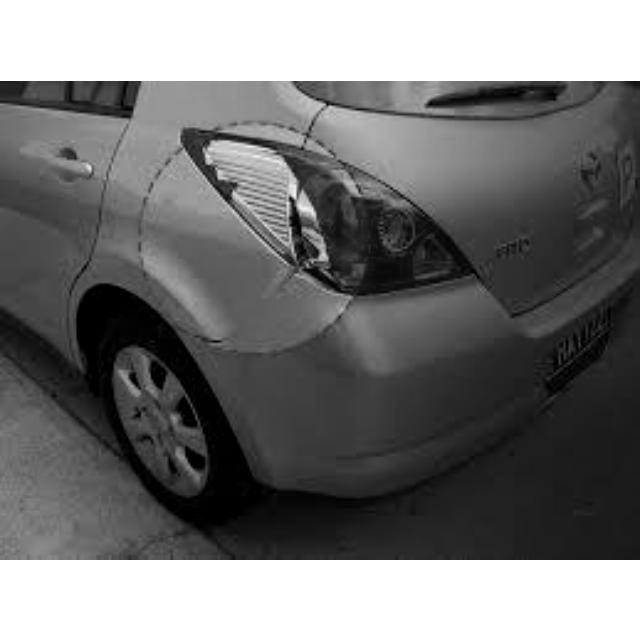Taillight-Damage: (166, 112, 425, 314)
